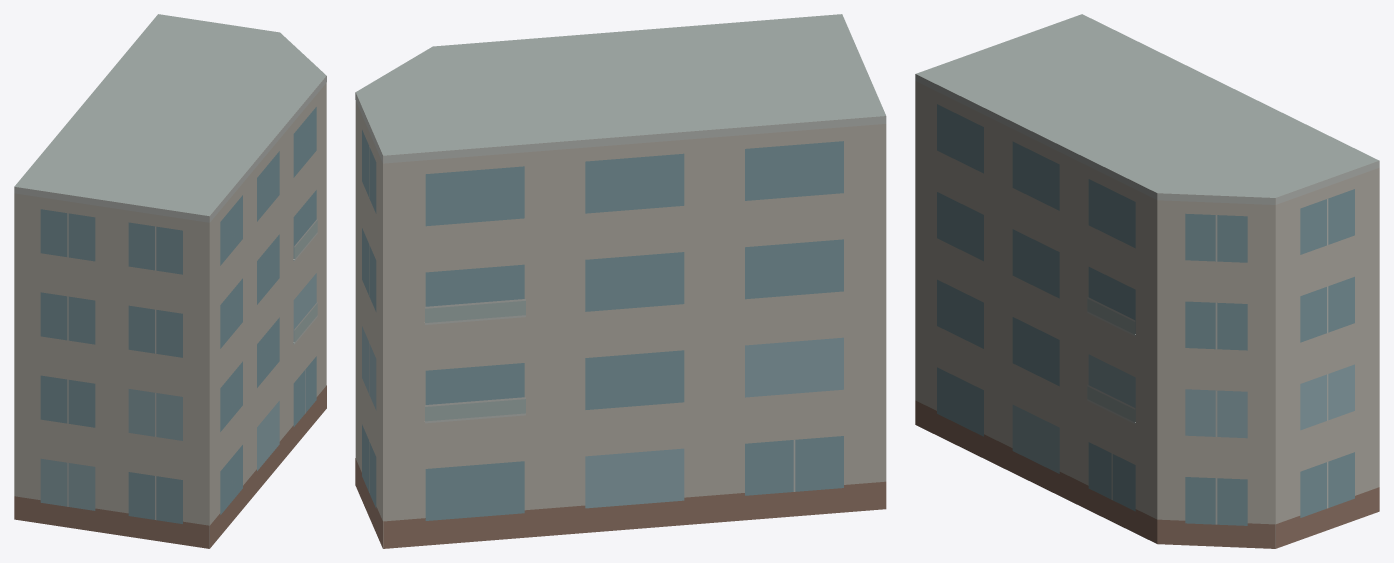
The model's file is survey-upis-33030307.glb.
3 views of the same model, side by side, from view 1: azimuth 30°, elevation 25°; view 2: azimuth 150°, elevation 25°; view 3: azimuth 270°, elevation 25° (orthographic). The views are drawn at different scales.
Visible parts, largest first — view 1: survey-upis-33030307.tmp; view 2: survey-upis-33030307.tmp; view 3: survey-upis-33030307.tmp.
Boxes of the visible parts, x1,y1,x2,y2 form: survey-upis-33030307.tmp: (14,14,326,548); survey-upis-33030307.tmp: (355,14,886,548); survey-upis-33030307.tmp: (915,14,1379,548).
Size of the model in its own units: 13.73 by 12.2 by 14.63.
